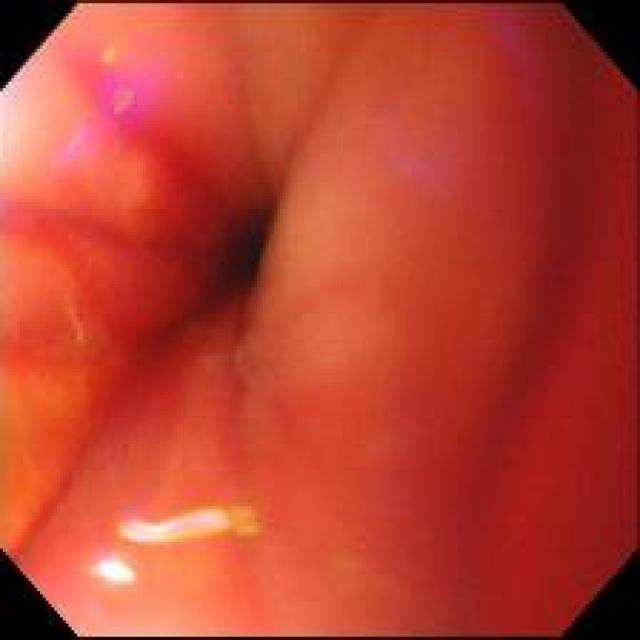blur: (2, 4, 634, 633)
color misalignment: (84, 55, 172, 133), (53, 128, 101, 168)
contrast: (205, 176, 290, 310)
saturation: (5, 71, 66, 165)
specularity: (120, 514, 246, 545), (102, 555, 134, 583)
